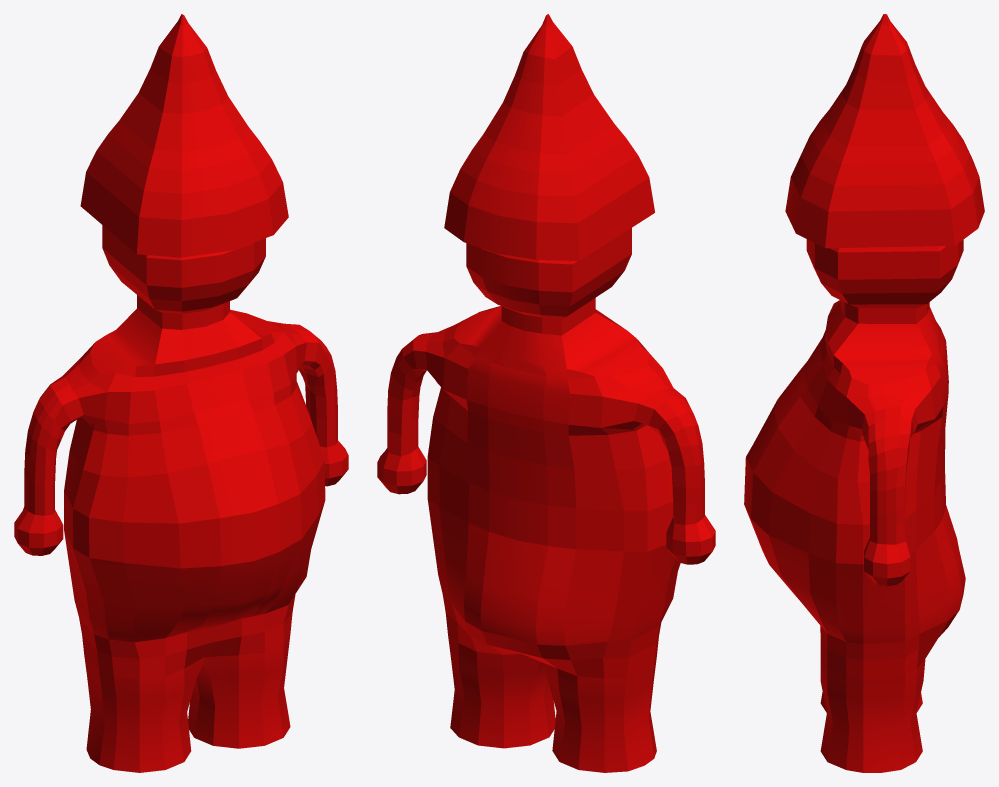
The model's file is Gnome 1.fbx.
The picture shows the model from 3 angles, left to right: view 1: azimuth 30°, elevation 25°; view 2: azimuth 150°, elevation 25°; view 3: azimuth 270°, elevation 25°; orthographic projection. The views are drawn at different scales.
Parts seen in each view (by area): view 1: pCylinder4; view 2: pCylinder4; view 3: pCylinder4.
Part boxes in pixels (x1,y1,x2,y2): pCylinder4: [14, 14, 348, 772]; pCylinder4: [377, 14, 715, 772]; pCylinder4: [744, 14, 984, 772].
Size of the model in its own units: 7.34 by 15.39 by 4.71.
